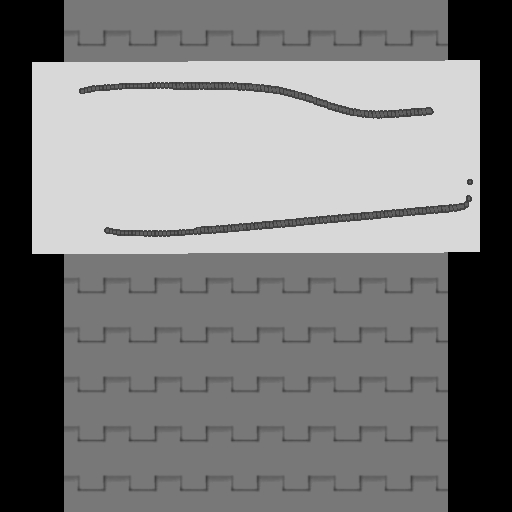Defect: (67, 84, 108, 236)
